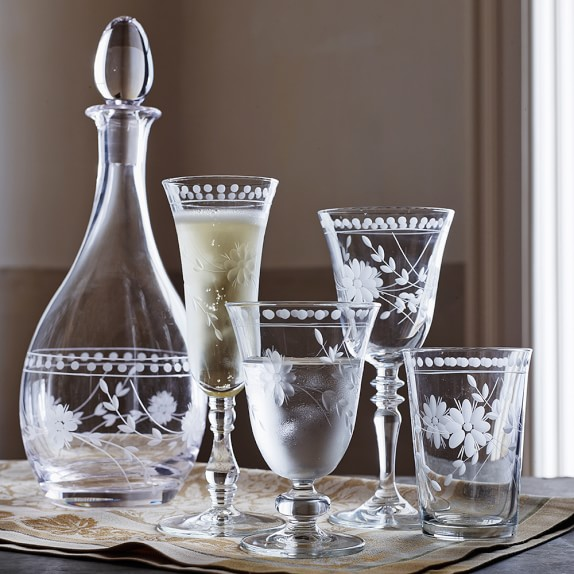Nonrec_Glass: (27, 11, 211, 512), (159, 152, 295, 539), (224, 293, 379, 560), (321, 185, 435, 546), (402, 340, 529, 551)
